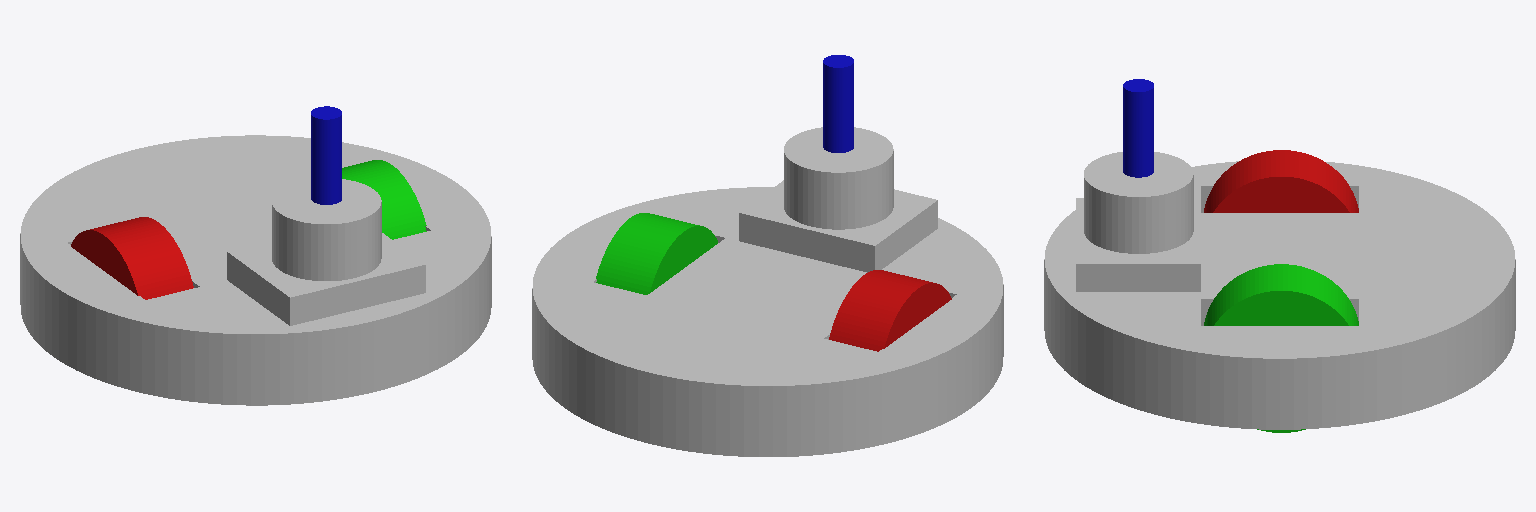
URDF robot description (finalrobot2_1100452):
<?xml version="1.0" ?>
<robot name="finalrobot2_1100452" xmlns:xacro="http://www.ros.org/wiki/xacro" >
  <!-- ダミーリンクを追加 -->
  <link name="dummy_link"/>

  <!-- ダミージョイントを追加 -->
  <joint name="dummy_joint" type="fixed">
    <parent link="dummy_link"/>
    <child link="base_link"/>
    <origin xyz="0 0 0" rpy="0 0 0"/>
  </joint>

  
  <!-- ベースリンクの定義 -->
  <link name="base_link">
    <visual>
      <geometry>
        <mesh filename="package://finalrobot2_1100452_description/meshes/base_link.stl"/>
      </geometry>
      <material name="grey">
        <color rgba="0.8 0.8 0.8 1.0"/>
      </material>
    </visual>
    <collision>
      <geometry>
        <mesh filename="package://finalrobot2_1100452_description/meshes/base_link.stl"/>
      </geometry>
    </collision>
    <inertial>
      <mass value="1.0"/>
      <origin xyz="0 0 0" rpy="0 0 0"/>
      <inertia ixx="1.0" ixy="0.0" ixz="0.0" iyy="1.0" iyz="0.0" izz="1.0"/>
    </inertial>
  </link>

  <!-- 左車輪の定義 -->
  <link name="left_wheel_1">
    <visual>
      <geometry>
        <mesh filename="package://finalrobot2_1100452_description/meshes/left_wheel_1.stl"/>
      </geometry>
      <material name="red">
        <color rgba="0.8 0.1 0.1 1.0"/>
      </material>
    </visual>
    <collision>
      <geometry>
        <mesh filename="package://finalrobot2_1100452_description/meshes/left_wheel_1.stl"/>
      </geometry>
    </collision>
    <inertial>
      <mass value="1.0"/>
      <origin xyz="0 0 0" rpy="0 0 0"/>
      <inertia ixx="1.0" ixy="0.0" ixz="0.0" iyy="1.0" iyz="0.0" izz="1.0"/>
    </inertial>
  </link>

  <!-- 右車輪の定義 -->
  <link name="right_wheel_1">
    <visual>
      <geometry>
        <mesh filename="package://finalrobot2_1100452_description/meshes/right_wheel_1.stl"/>
      </geometry>
      <material name="green">
        <color rgba="0.1 0.8 0.1 1.0"/>
      </material>
    </visual>
    <collision>
      <geometry>
        <mesh filename="package://finalrobot2_1100452_description/meshes/right_wheel_1.stl"/>
      </geometry>
    </collision>
    <inertial>
      <mass value="1.0"/>
      <origin xyz="0 0 0" rpy="0 0 0"/>
      <inertia ixx="1.0" ixy="0.0" ixz="0.0" iyy="1.0" iyz="0.0" izz="1.0"/>
    </inertial>
  </link>

  <!-- Lidarリンクの定義 -->
  <link name="lidar_1">
    <visual>
      <geometry>
        <mesh filename="package://finalrobot2_1100452_description/meshes/lidar_1.stl"/>
      </geometry>
      <material name="blue">
        <color rgba="0.1 0.1 0.8 1.0"/>
      </material>
    </visual>
    <collision>
      <geometry>
        <mesh filename="package://finalrobot2_1100452_description/meshes/lidar_1.stl"/>
      </geometry>
    </collision>
    <inertial>
      <mass value="0.1"/>
      <origin xyz="0 0 0" rpy="0 0 0"/>
      <inertia ixx="0.1" ixy="0.0" ixz="0.0" iyy="0.1" iyz="0.0" izz="0.1"/>
    </inertial>
  </link>

  <!-- ジョイントの定義 -->
  <joint name="left_wheel_joint" type="revolute">
    <parent link="base_link"/>
    <child link="left_wheel_1"/>
    <origin xyz="-0.5 0.5 0" rpy="0 0 0"/>
    <axis xyz="0 1 0"/>
    <limit effort="1000" lower="-3.14" upper="3.14" velocity="1.0"/>
  </joint>

  <joint name="right_wheel_joint" type="revolute">
    <parent link="base_link"/>
    <child link="right_wheel_1"/>
    <origin xyz="0.5 0.5 0" rpy="0 0 0"/>
    <axis xyz="0 1 0"/>
    <limit effort="1000" lower="-3.14" upper="3.14" velocity="1.0"/>
  </joint>

  <joint name="lidar_joint" type="fixed">
    <parent link="base_link"/>
    <child link="lidar_1"/>
    <origin xyz="0 0 1" rpy="0 0 0"/>
  </joint>

  <!-- トランスミッションの定義 -->
  <transmission name="left_wheel_trans">
    <type>transmission_interface/SimpleTransmission</type>
    <joint name="left_wheel_joint">
      <hardwareInterface>hardware_interface/EffortJointInterface</hardwareInterface>
    </joint>
    <actuator name="left_wheel_motor">
      <hardwareInterface>hardware_interface/EffortJointInterface</hardwareInterface>
      <mechanicalReduction>1</mechanicalReduction>
    </actuator>
  </transmission>

  <transmission name="right_wheel_trans">
    <type>transmission_interface/SimpleTransmission</type>
    <joint name="right_wheel_joint">
      <hardwareInterface>hardware_interface/EffortJointInterface</hardwareInterface>
    </joint>
    <actuator name="right_wheel_motor">
      <hardwareInterface>hardware_interface/EffortJointInterface</hardwareInterface>
      <mechanicalReduction>1</mechanicalReduction>
    </actuator>
  </transmission>

</robot>

--- What the picture shows (computed from the rendered views, not written in the file) ---
Views: 3 orthographic renders of the robot side by side, from view 1: azimuth 30°, elevation 25°; view 2: azimuth 150°, elevation 25°; view 3: azimuth 270°, elevation 25°.
Robot: finalrobot2_1100452 — 5 links, 4 joints (2 revolute, 2 fixed); root link dummy_link; default pose: every joint at zero.
Links seen in each view (by area): view 1: base_link, left_wheel_1, right_wheel_1, lidar_1; view 2: base_link, right_wheel_1, left_wheel_1, lidar_1; view 3: base_link, left_wheel_1, right_wheel_1, lidar_1.
Boxes of the visible links, x1,y1,x2,y2 form: base_link: (20, 135, 491, 405); left_wheel_1: (71, 217, 193, 299); right_wheel_1: (342, 160, 426, 239); lidar_1: (311, 106, 341, 204); base_link: (532, 127, 1003, 456); right_wheel_1: (596, 213, 717, 294); left_wheel_1: (829, 270, 951, 351); lidar_1: (823, 55, 853, 152); base_link: (1044, 152, 1515, 429); left_wheel_1: (1204, 150, 1358, 212); right_wheel_1: (1204, 264, 1358, 432); lidar_1: (1123, 79, 1153, 177).
Bounding box of the posed robot: 150 × 150 × 98.5 m (x, y, z).
Meshes: 4 distinct files referenced, 4 mesh visuals loaded (4 binary STL).
